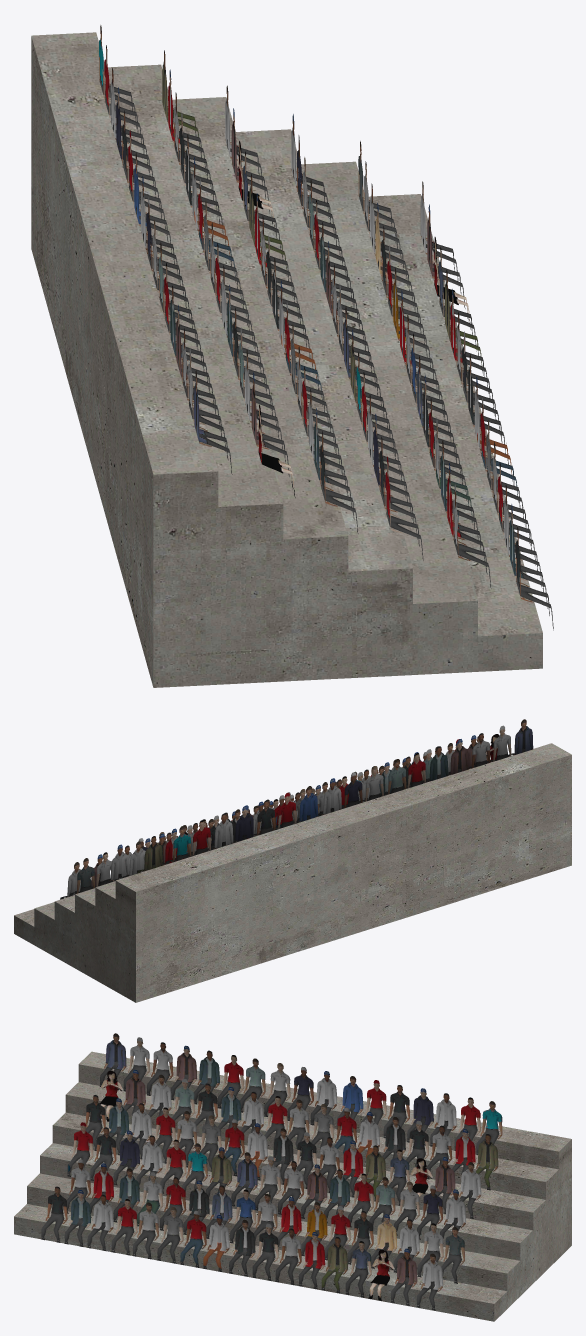
Rendered from khandai.fbx.
3 renders of one model, top to bottom at view 1: azimuth 30°, elevation 25°; view 2: azimuth 150°, elevation 25°; view 3: azimuth 270°, elevation 25°, orthographic. The views are drawn at different scales.
Parts seen in each view (by area): view 1: stage_stairs, peoples; view 2: stage_stairs, peoples; view 3: peoples, stage_stairs.
Boxes of the visible parts, x1,y1,x2,y2 form: stage_stairs: [31, 32, 542, 687]; peoples: [99, 25, 553, 630]; stage_stairs: [14, 743, 571, 1002]; peoples: [60, 719, 533, 899]; peoples: [41, 1033, 502, 1310]; stage_stairs: [14, 1051, 571, 1321].
Bounding box in the file's own units: 1324 × 537 × 1908.
